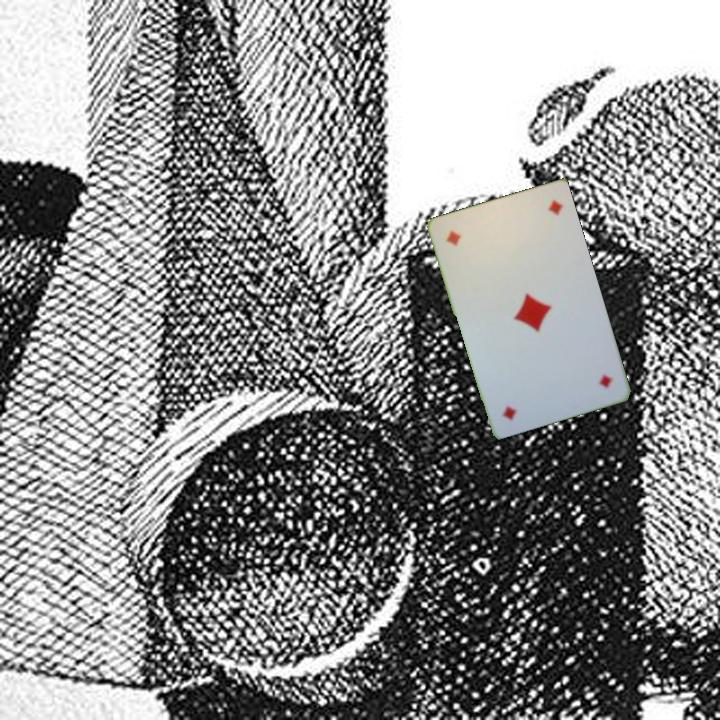d_a.png: (540, 337, 620, 410), (437, 208, 517, 281)
